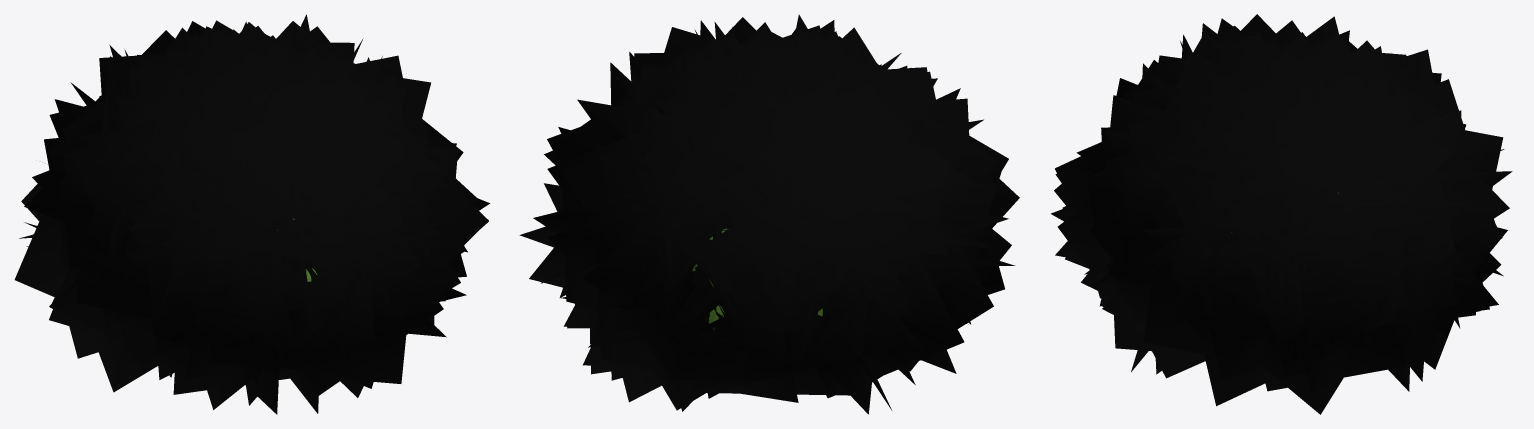
File: Bush_210.001.fbx
The picture shows the model from 3 angles, left to right: view 1: azimuth 30°, elevation 25°; view 2: azimuth 150°, elevation 25°; view 3: azimuth 270°, elevation 25°; orthographic projection. The views are drawn at different scales.
Visible parts, largest first — view 1: Bush_210; view 2: Bush_210; view 3: Bush_210.
Boxes of the visible parts, x1,y1,x2,y2 form: Bush_210: [14, 14, 489, 414]; Bush_210: [519, 14, 1019, 414]; Bush_210: [1051, 14, 1512, 414].
Bounding box in the file's own units: 257 × 196 × 257.
